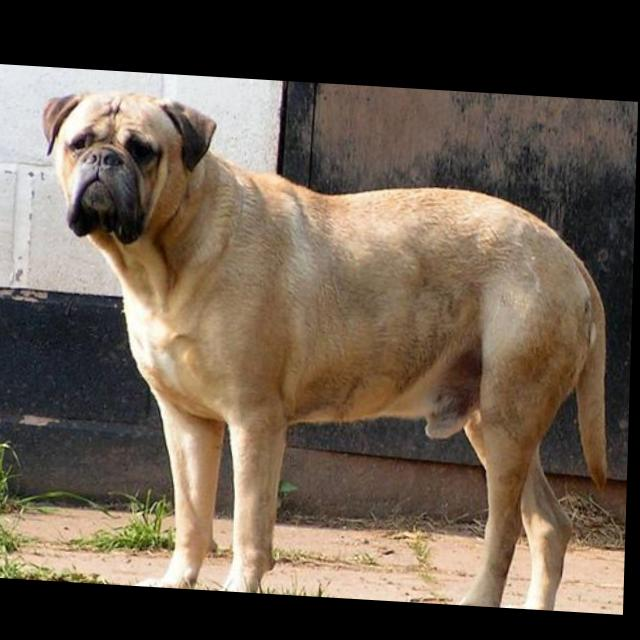bullmastiff: (33, 83, 620, 606)
